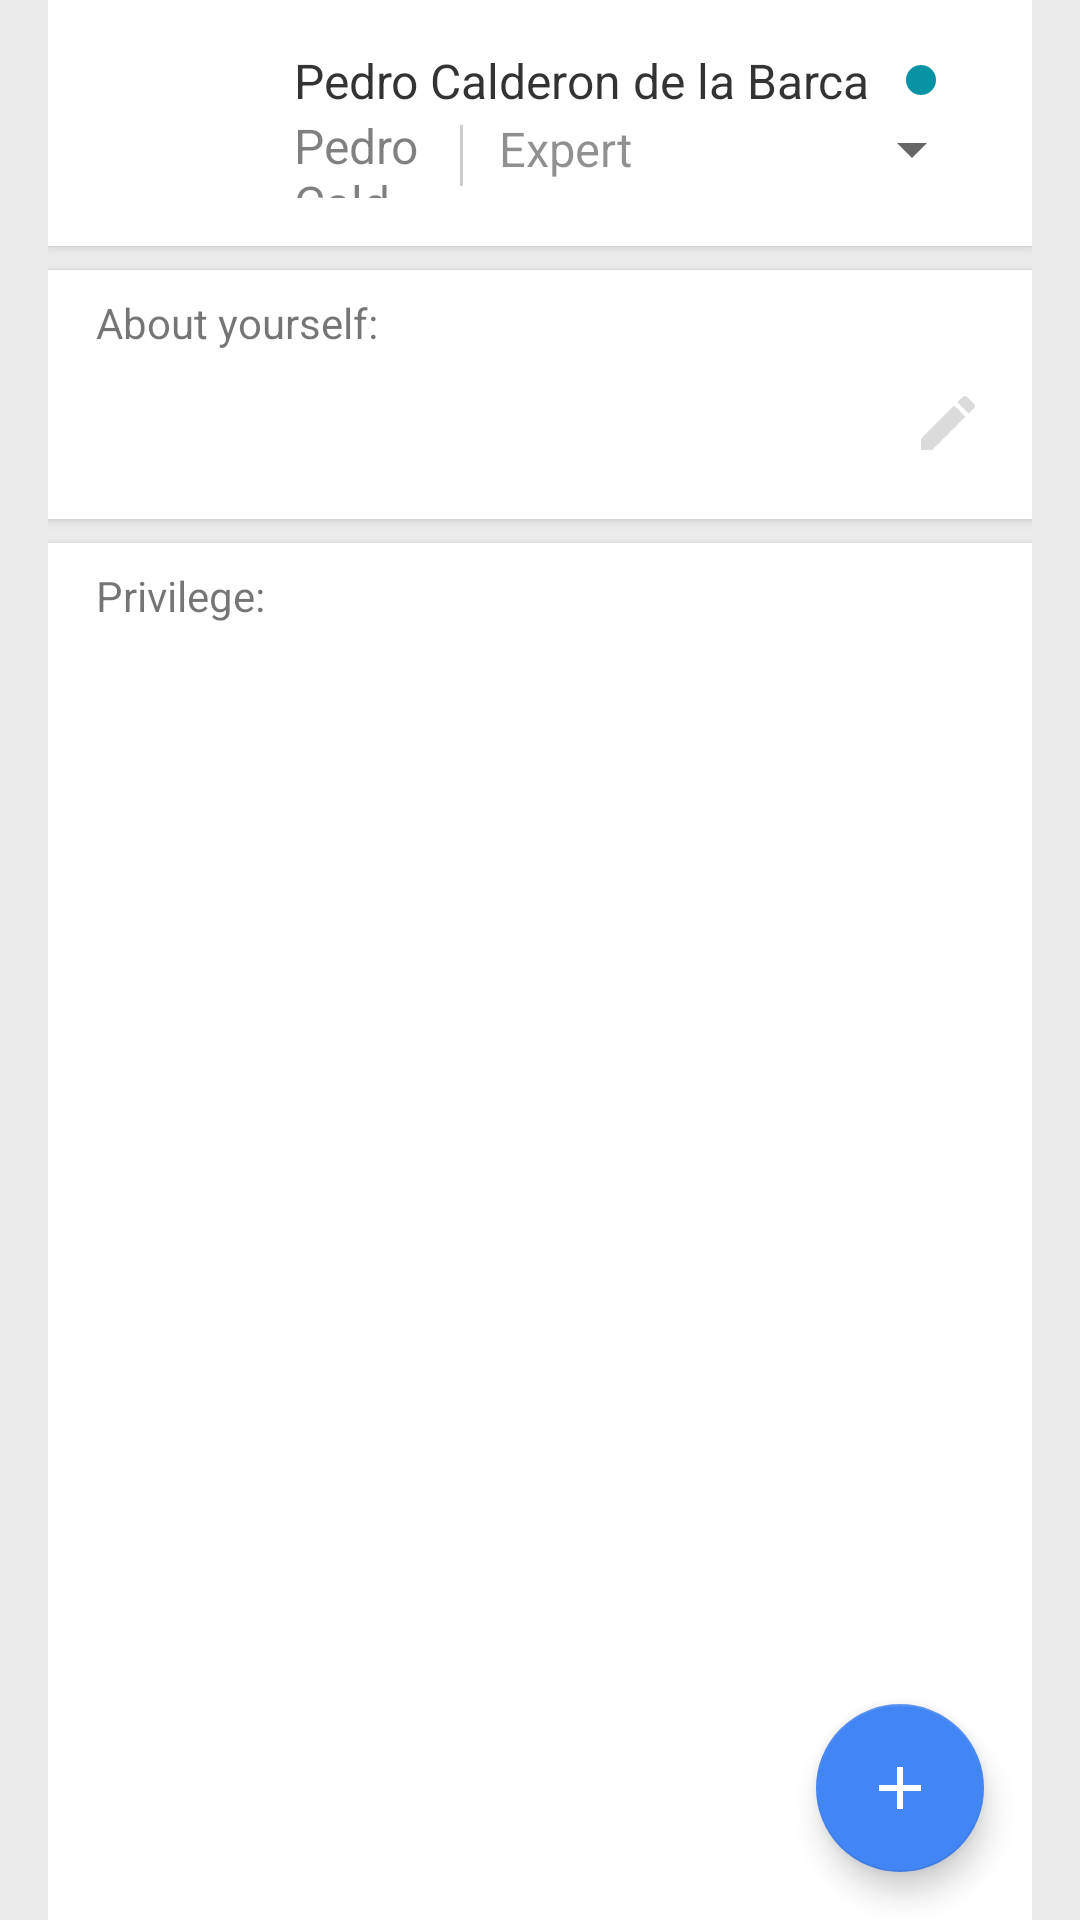

Point at icon controls on the screen. Image size 1080px x 1920px, points as [x,y].
add: [900,1788]
edit: [948,423]
